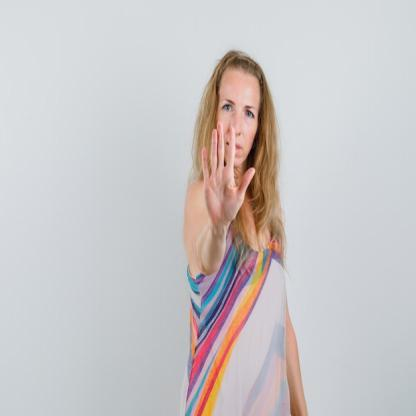stop: (200, 117, 257, 228)
